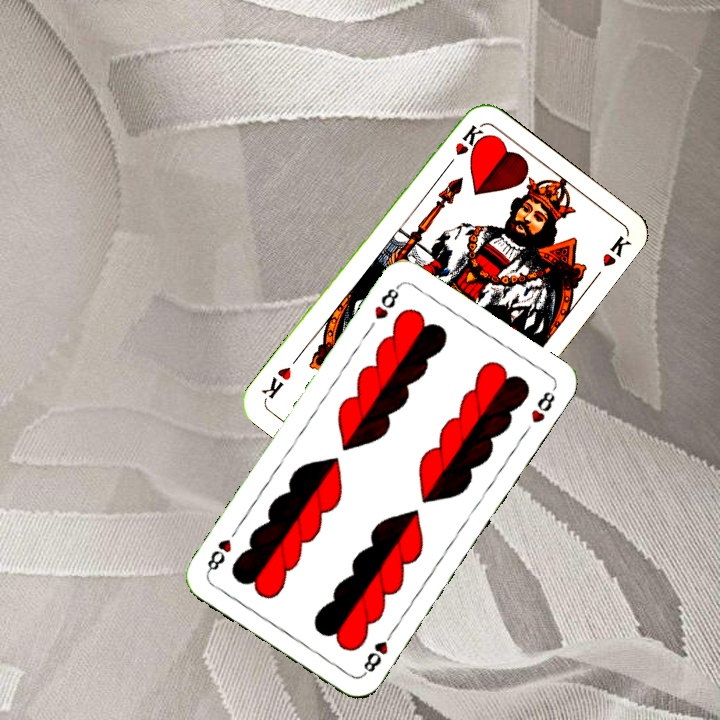H8: (359, 625, 397, 678), (370, 281, 402, 322)
HK: (441, 120, 486, 173)
